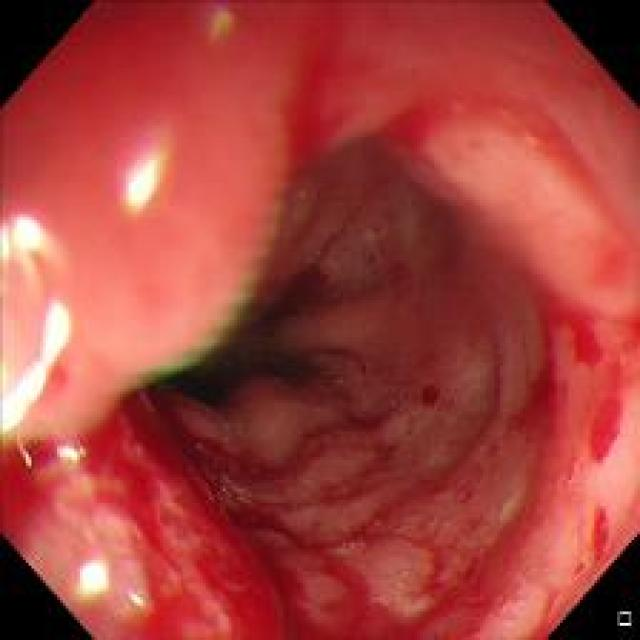blood: (85, 390, 429, 638), (5, 434, 71, 545)
blur: (388, 26, 621, 281), (94, 156, 298, 392)
color misalignment: (168, 234, 611, 342), (202, 290, 258, 350), (200, 4, 236, 36), (131, 366, 182, 379)
contrast: (152, 315, 299, 406)
specularity: (0, 298, 88, 451), (64, 548, 164, 619), (2, 190, 64, 298), (111, 140, 168, 219)
